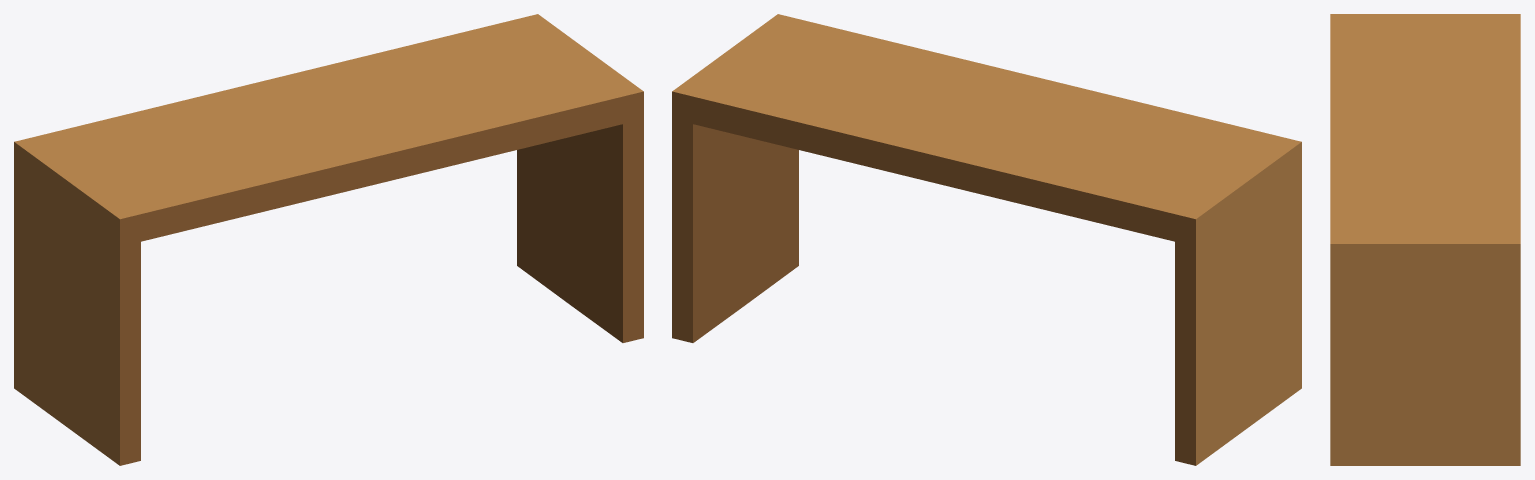
File: table_bar.fbx
3 renders of one model, left to right at view 1: azimuth 30°, elevation 25°; view 2: azimuth 150°, elevation 25°; view 3: azimuth 270°, elevation 25°, orthographic. The views are drawn at different scales.
Visible parts, largest first — view 1: mesh_TableHigh; view 2: mesh_TableHigh; view 3: mesh_TableHigh.
Boxes of the visible parts, x1,y1,x2,y2 form: mesh_TableHigh: [14, 14, 643, 465]; mesh_TableHigh: [672, 14, 1301, 465]; mesh_TableHigh: [1330, 14, 1520, 465].
Bounding box in the file's own units: 2 × 0.9 × 0.7.
